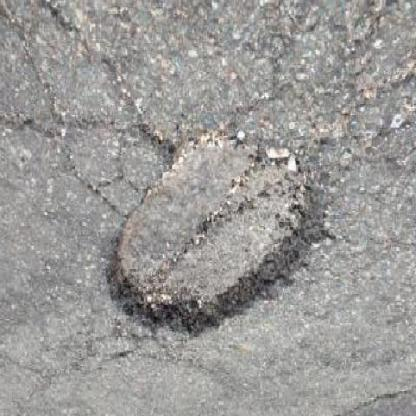pothole: (106, 129, 333, 344)
